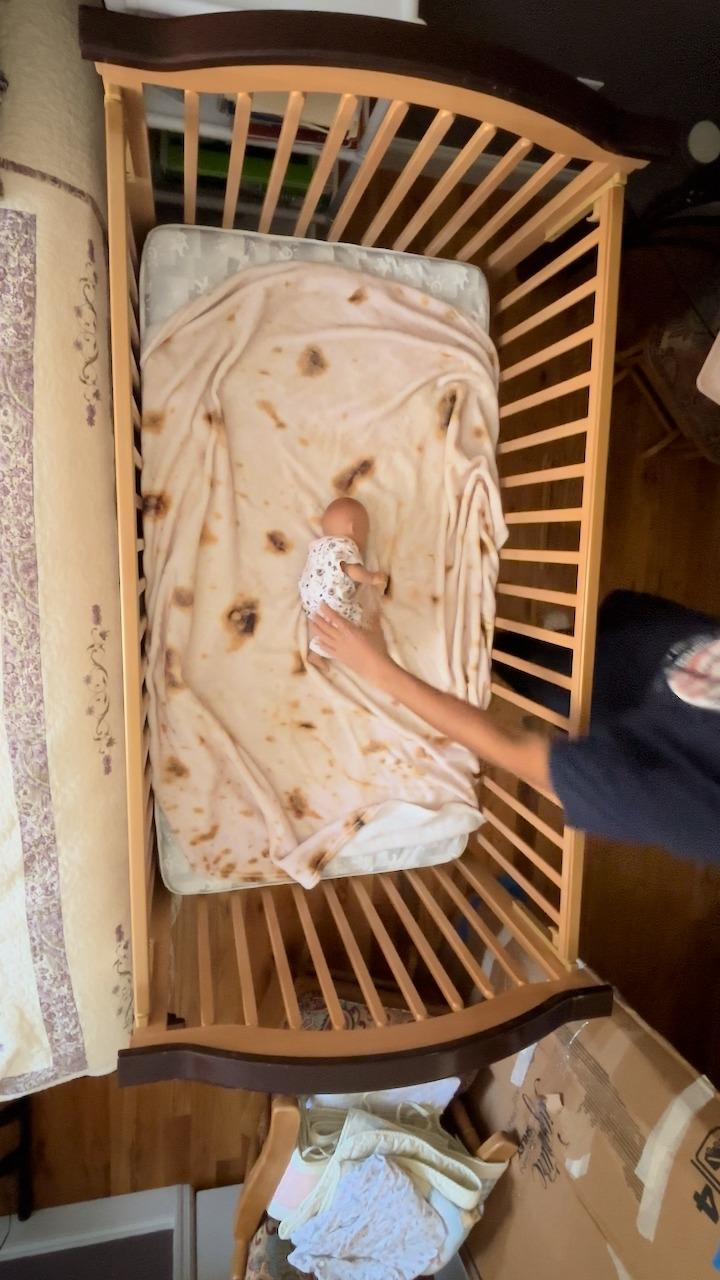baby: (288, 497, 394, 668)
